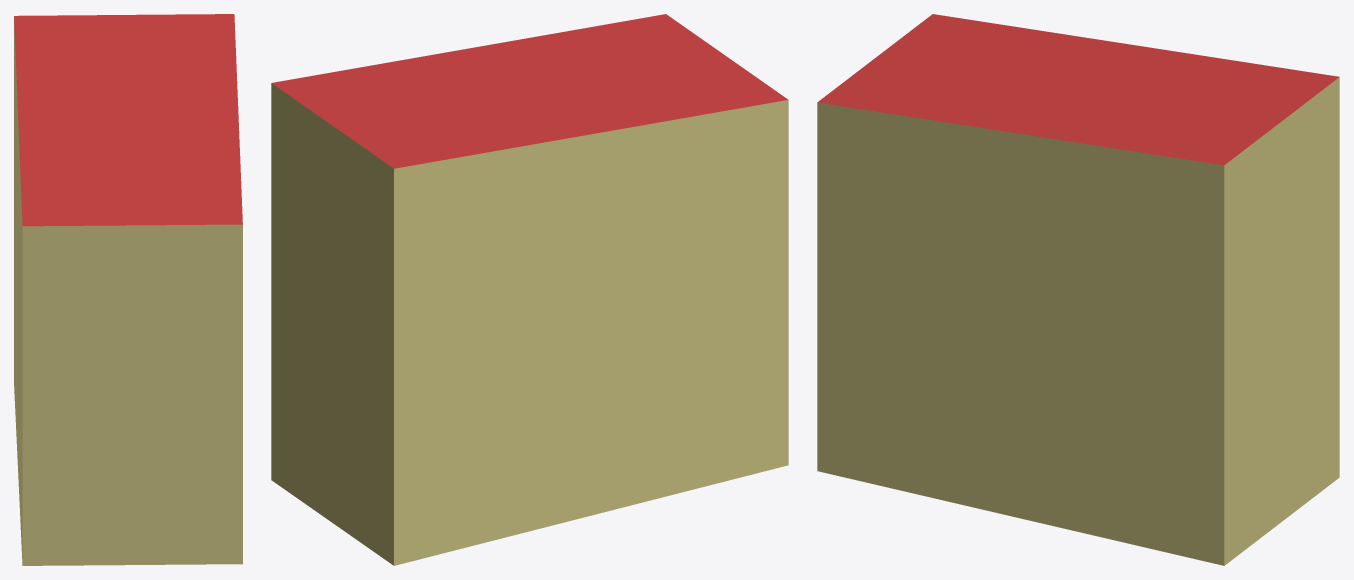
The picture shows the model from 3 angles, left to right: view 1: azimuth 30°, elevation 25°; view 2: azimuth 150°, elevation 25°; view 3: azimuth 270°, elevation 25°; orthographic projection. The views are drawn at different scales.
Parts seen in each view (by area): view 1: group_4, group_3; view 2: group_4, group_3; view 3: group_4, group_3.
Boxes of the visible parts, box(x1,y1,x2,y2) form: group_4: box(14, 18, 242, 565); group_3: box(14, 14, 242, 226); group_4: box(271, 83, 788, 565); group_3: box(272, 14, 788, 168); group_4: box(817, 77, 1339, 565); group_3: box(817, 14, 1339, 165).
Size of the model in its own units: 5.96 by 7.18 by 6.07.
